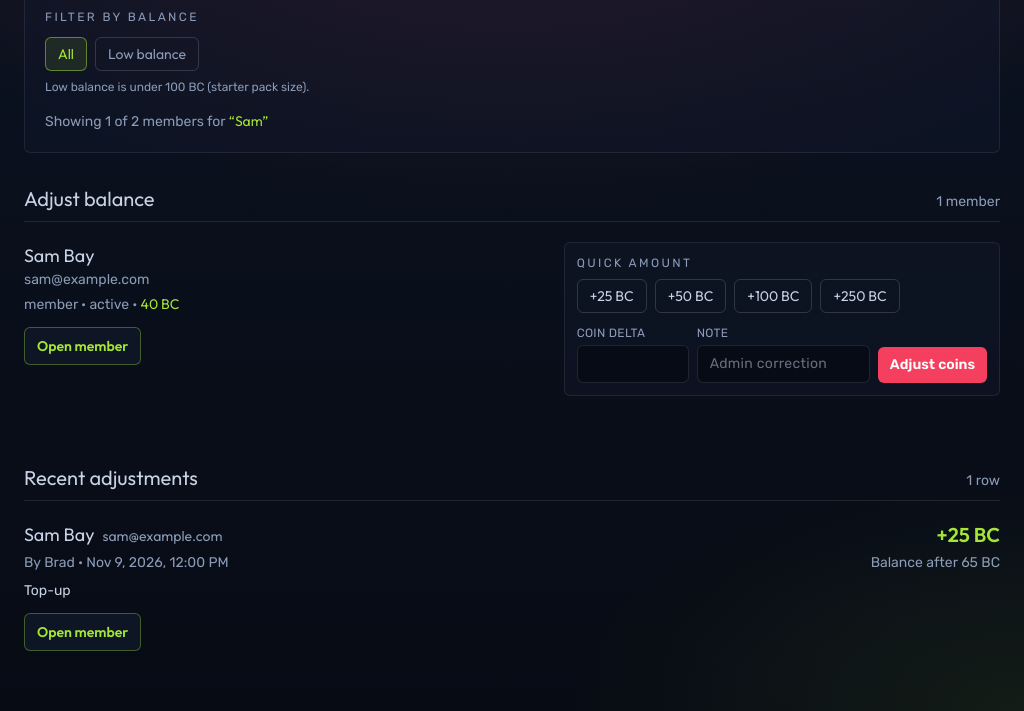
Test: AdminCoinHistoryPage member search › adjusts coins from the filtered list
This screenshot has width=1024, height=711.
(page scrolled)
Type "25" into the number field named "Coin delta for Sam Bay" at (633, 364), box [577, 344, 689, 382]
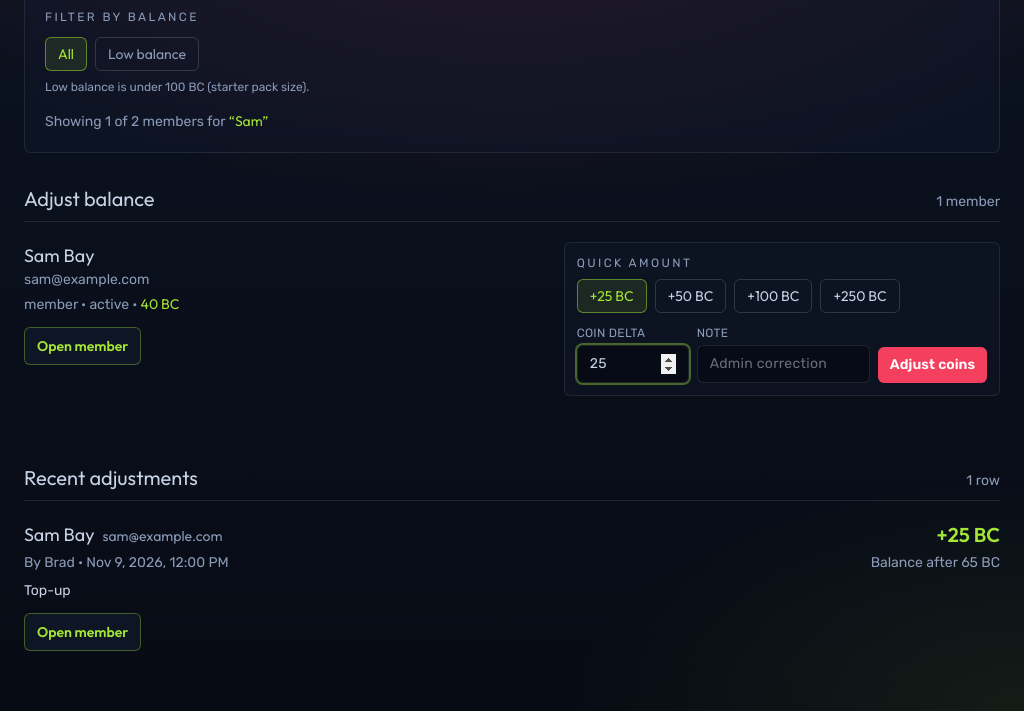
Click the button "Adjust coins" at (932, 364), box [878, 346, 987, 382]
(page scrolled)
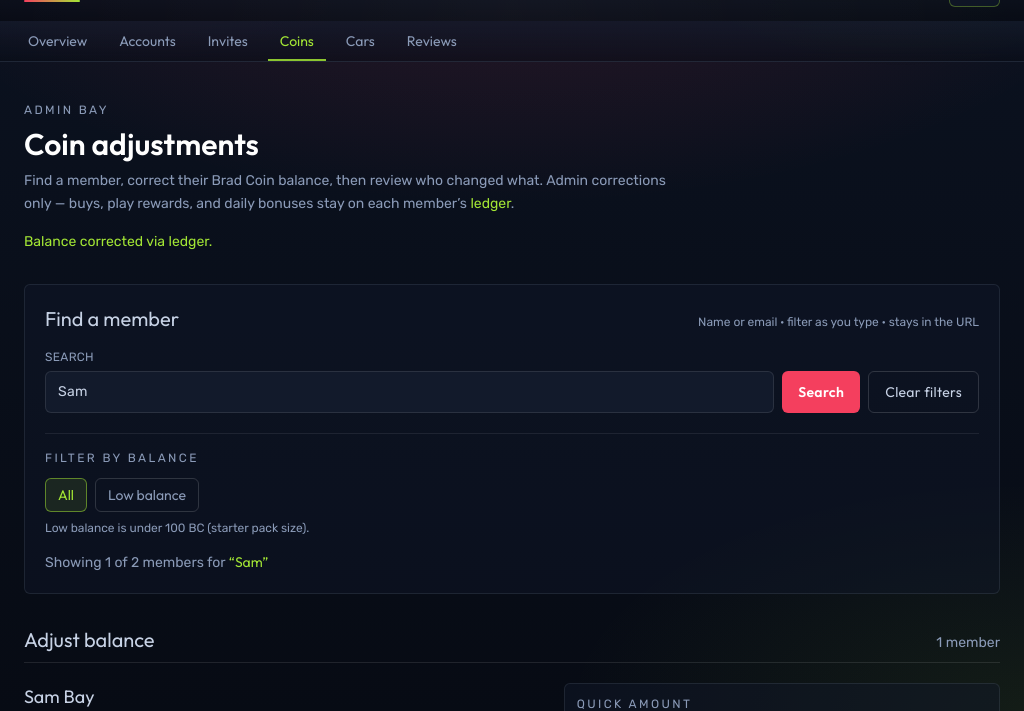
Expected: the text "Balance corrected via ledger." is shown, [24, 232, 212, 250]
